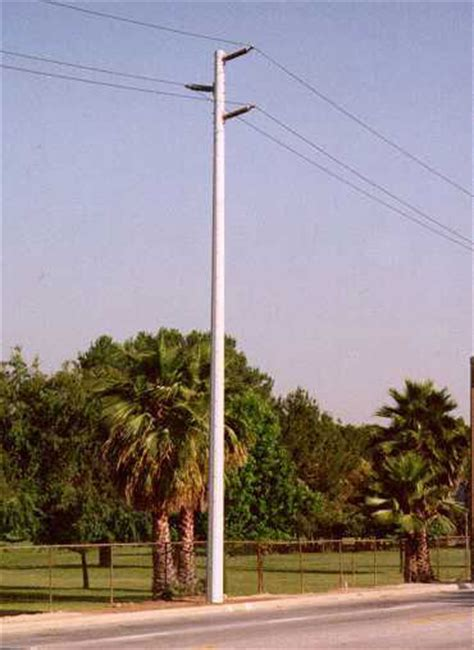pole: (173, 32, 279, 601)
